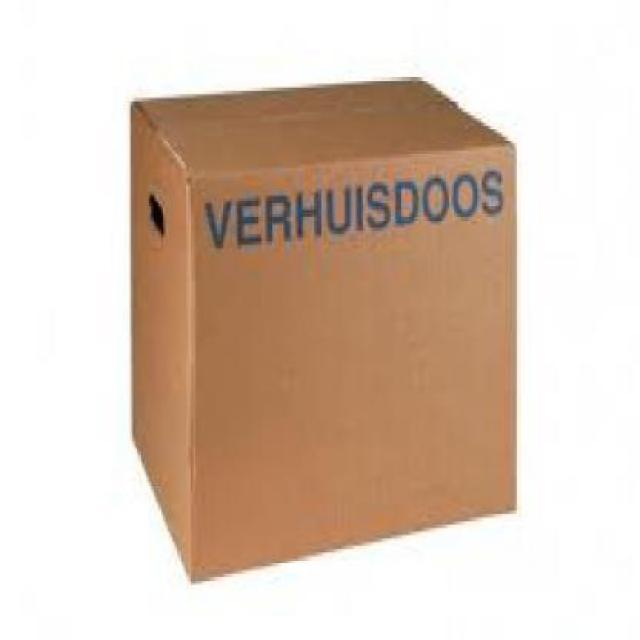box: (128, 76, 519, 585)
normal_hole: (147, 190, 166, 237)
